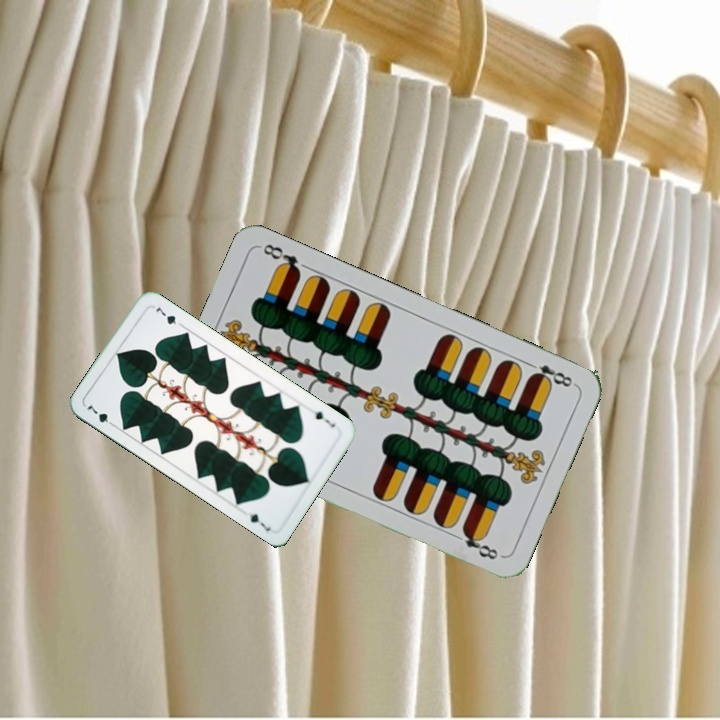E8: (522, 358, 578, 390)
G7: (83, 400, 118, 429), (310, 407, 338, 430)
